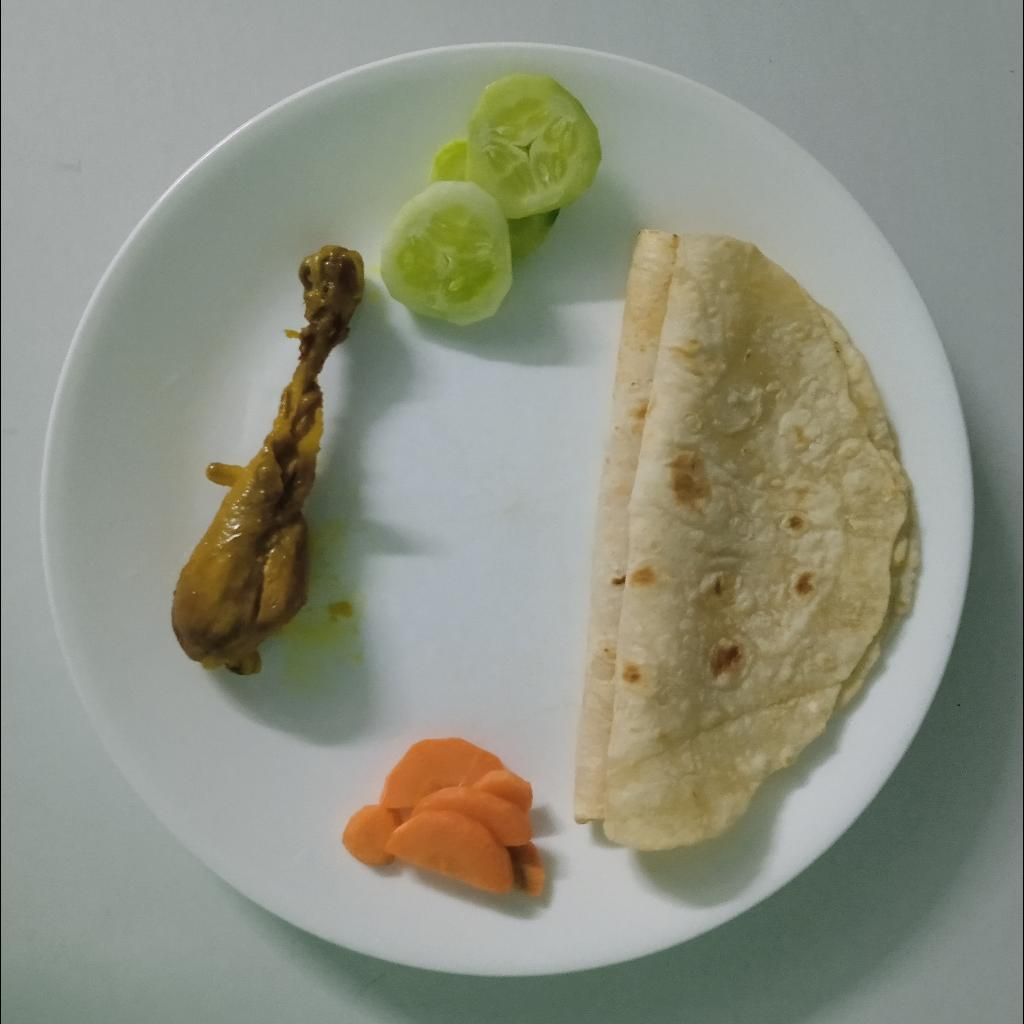carrot: (337, 736, 545, 901)
chicken: (173, 242, 367, 678)
cucumber: (379, 70, 604, 328)
ruti: (572, 229, 923, 850)
